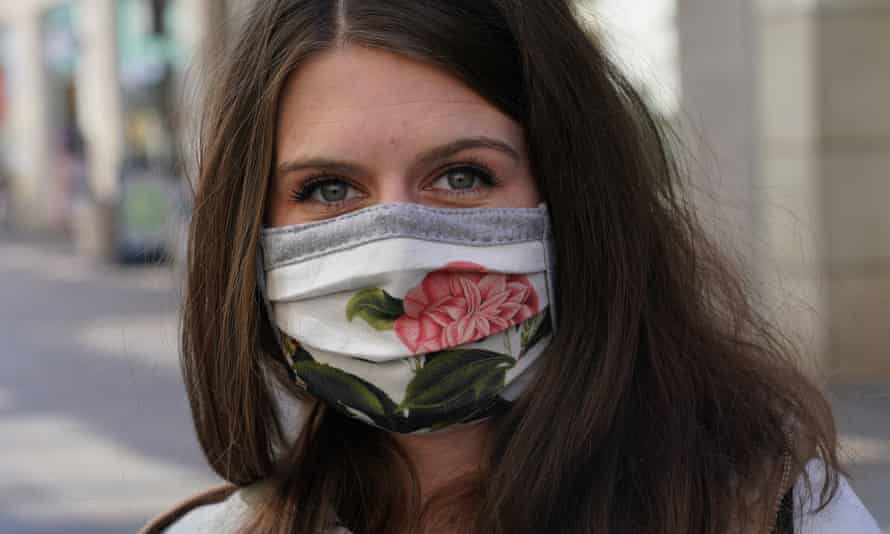with_mask: (219, 67, 610, 449)
